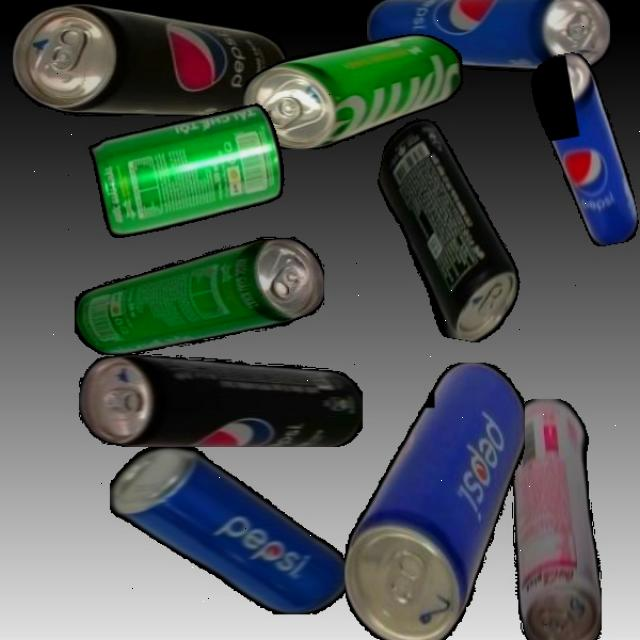debris: (343, 361, 524, 640), (354, 114, 544, 348), (109, 446, 349, 614), (13, 2, 287, 116), (74, 237, 324, 355), (88, 101, 291, 240), (79, 353, 363, 447), (243, 33, 464, 149), (528, 47, 640, 253), (511, 398, 602, 640), (365, 0, 610, 71)
